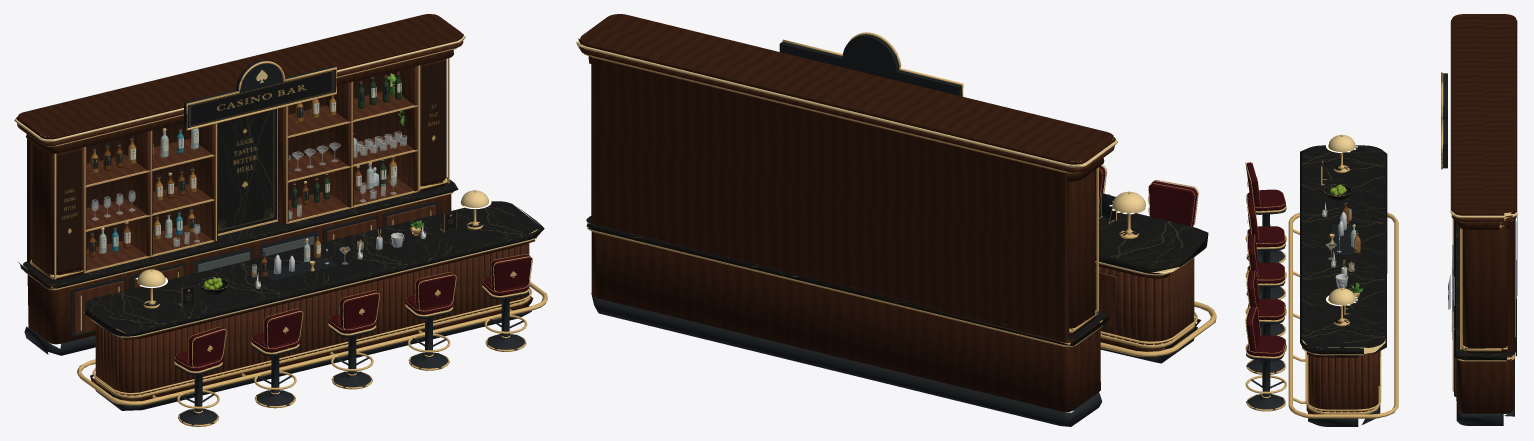
Rendered from casino_bar.glb.
3 renders of one model, left to right at view 1: azimuth 30°, elevation 25°; view 2: azimuth 150°, elevation 25°; view 3: azimuth 270°, elevation 25°, orthographic. The views are drawn at different scales.
Parts seen in each view (by area): view 1: Back_bar__shelving_pilasters_cabinetry, Front_bar__fluted_walnut_marble_brass, Arched_CASINO_BAR_sign, Stool_05, Stool_03, Stool_02, Stool_04, Stool_01, Cocktail_tools_shakers_jigger_and_ice_bucket, Brass_lamp_2, Brass_lamp_1; view 2: Back_bar__shelving_pilasters_cabinetry, Front_bar__fluted_walnut_marble_brass, Arched_CASINO_BAR_sign, Stool_01, Bartender_side_cabinets, Brass_lamp_1; view 3: Back_bar__shelving_pilasters_cabinetry, Front_bar__fluted_walnut_marble_brass, Stool_05, Stool_04, Stool_01, Stool_02, Stool_03, Cocktail_tools_shakers_jigger_and_ice_bucket, Arched_CASINO_BAR_sign, Brass_lamp_2, Brass_lamp_1, Marble_bowl_with_fresh_limes.
Part boxes in pixels (x1,y1,x2,y2): Back_bar__shelving_pilasters_cabinetry: (14, 14, 465, 355); Front_bar__fluted_walnut_marble_brass: (77, 201, 547, 410); Arched_CASINO_BAR_sign: (184, 60, 336, 130); Stool_05: (482, 254, 532, 351); Stool_03: (328, 290, 379, 389); Stool_02: (251, 308, 303, 408); Stool_04: (405, 272, 456, 370); Stool_01: (174, 326, 226, 426); Cocktail_tools_shakers_jigger_and_ice_bucket: (267, 229, 404, 281); Brass_lamp_2: (459, 190, 491, 229); Brass_lamp_1: (136, 269, 167, 308); Back_bar__shelving_pilasters_cabinetry: (576, 14, 1117, 426); Front_bar__fluted_walnut_marble_brass: (1095, 203, 1216, 363); Arched_CASINO_BAR_sign: (779, 32, 963, 96); Stool_01: (1148, 180, 1198, 226); Bartender_side_cabinets: (1095, 271, 1116, 328); Brass_lamp_1: (1109, 191, 1148, 238); Back_bar__shelving_pilasters_cabinetry: (1448, 14, 1517, 425); Front_bar__fluted_walnut_marble_brass: (1288, 145, 1398, 426); Stool_05: (1245, 306, 1286, 411); Stool_04: (1245, 270, 1286, 374); Stool_01: (1245, 162, 1286, 263); Stool_02: (1245, 198, 1286, 299); Stool_03: (1245, 234, 1286, 336); Cocktail_tools_shakers_jigger_and_ice_bucket: (1329, 211, 1352, 287); Arched_CASINO_BAR_sign: (1441, 72, 1447, 169); Brass_lamp_2: (1326, 288, 1357, 326); Brass_lamp_1: (1326, 134, 1357, 172); Marble_bowl_with_fresh_limes: (1323, 184, 1352, 200).
Bounding box in the file's own units: 6 × 3.34 × 3.38.
Materials: 34 (12 with a texture image).
